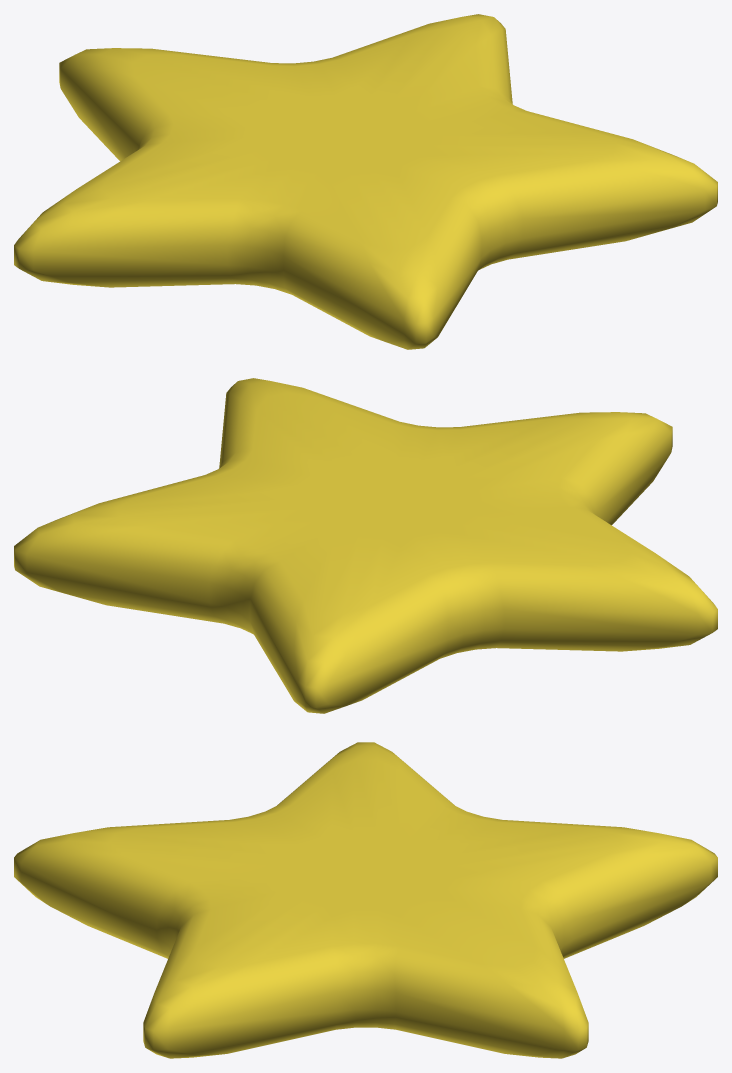
File: Star.fbx
3 views of the same model, one above another, from view 1: azimuth 30°, elevation 25°; view 2: azimuth 150°, elevation 25°; view 3: azimuth 270°, elevation 25° (orthographic). The views are drawn at different scales.
Visible parts, largest first — view 1: Star; view 2: Star; view 3: Star.
Part boxes in pixels (left/top/right/bottom): Star: left=14, top=14, right=717, bottom=349; Star: left=14, top=378, right=717, bottom=713; Star: left=14, top=742, right=717, bottom=1058.
Size of the model in its own units: 1.72 by 0.23 by 1.81.
